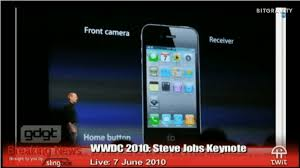iphone: (137, 20, 209, 151)
iphone4: (136, 20, 208, 151)
